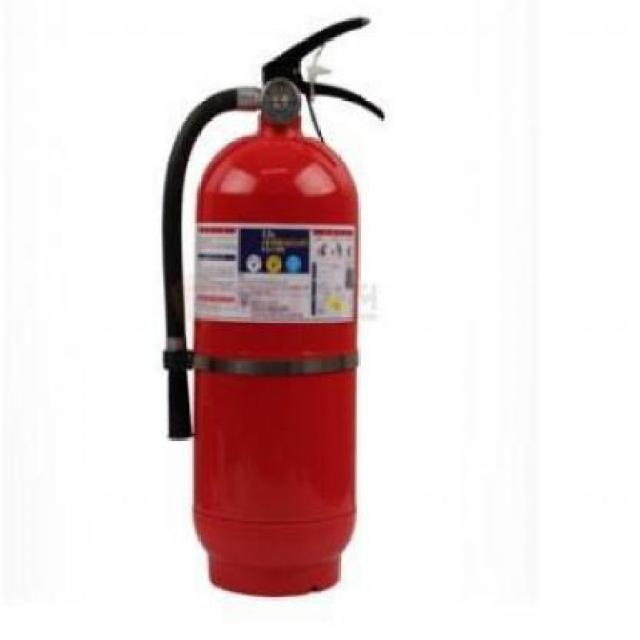fire extinguisher: (161, 15, 385, 598)
